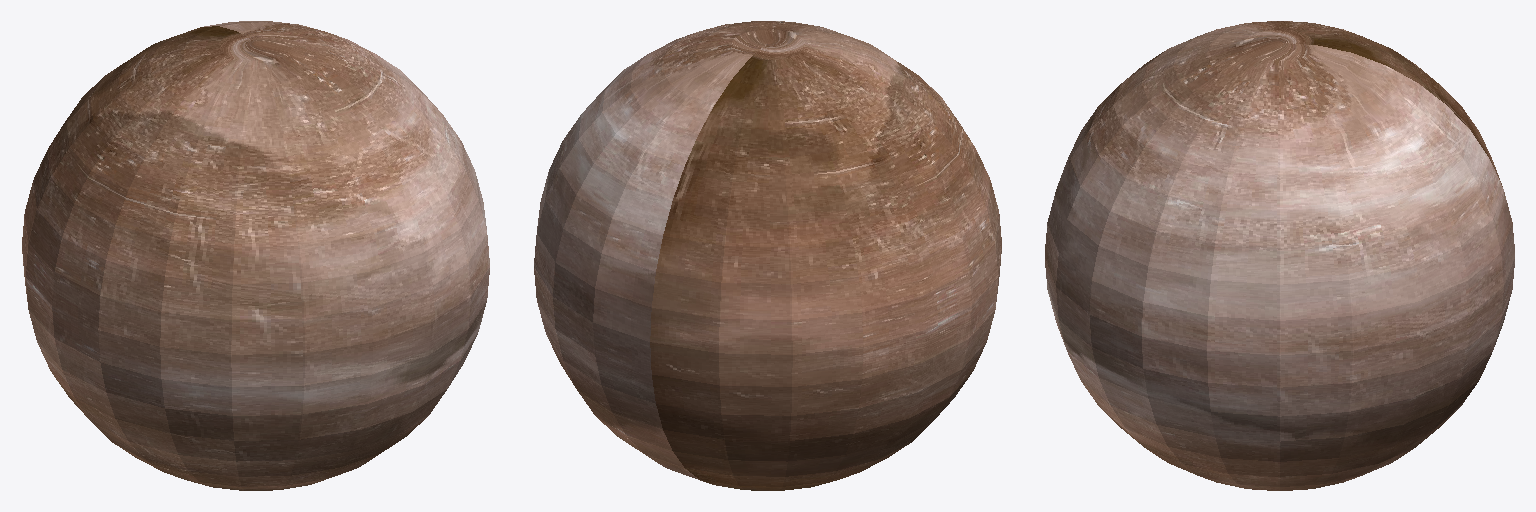
The picture shows the model from 3 angles: view 1: azimuth 30°, elevation 25°; view 2: azimuth 150°, elevation 25°; view 3: azimuth 270°, elevation 25°; orthographic projection.
Visible parts, largest first — view 1: pSphere1; view 2: pSphere1; view 3: pSphere1.
Boxes of the visible parts, x1,y1,x2,y2 form: pSphere1: [22, 21, 489, 490]; pSphere1: [534, 21, 1001, 490]; pSphere1: [1045, 21, 1514, 490].
Bounding box in the file's own units: 5.48 × 5.48 × 5.48.
Materials: 1 (1 with a texture image).